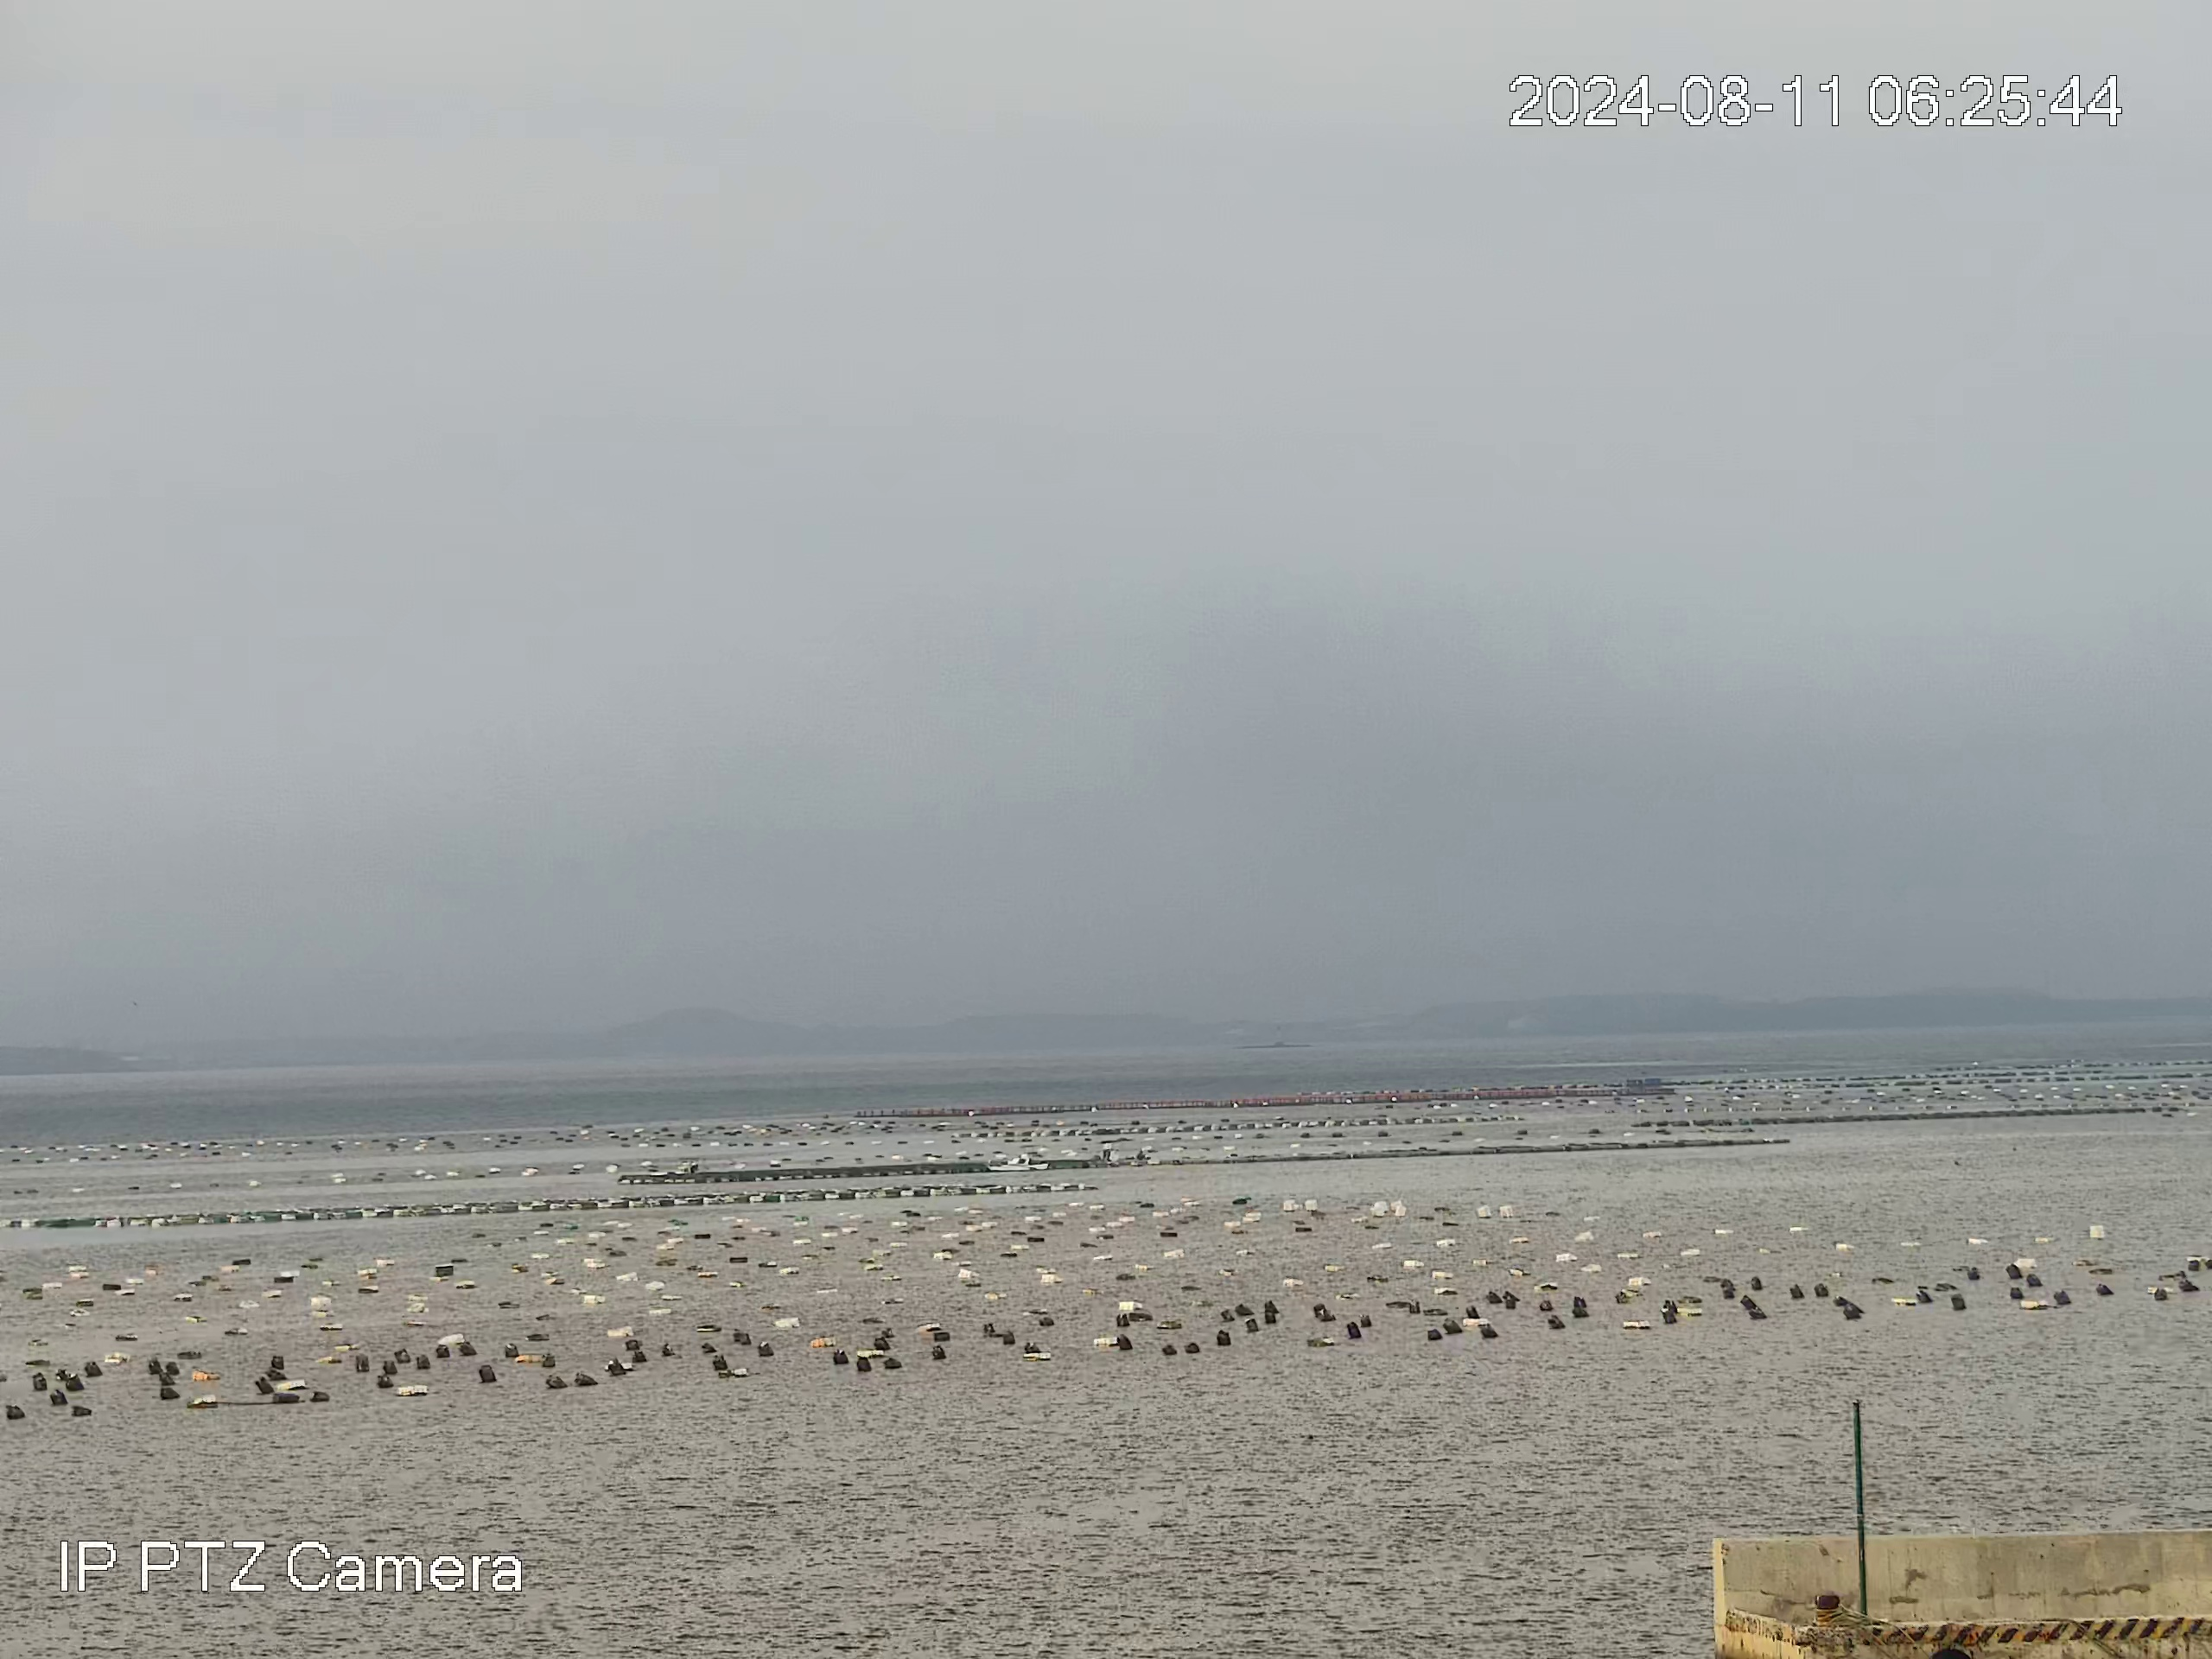boat: (984, 1151, 1050, 1173)
